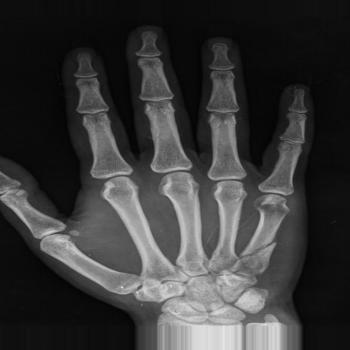Fracture: (237, 237, 283, 263)
